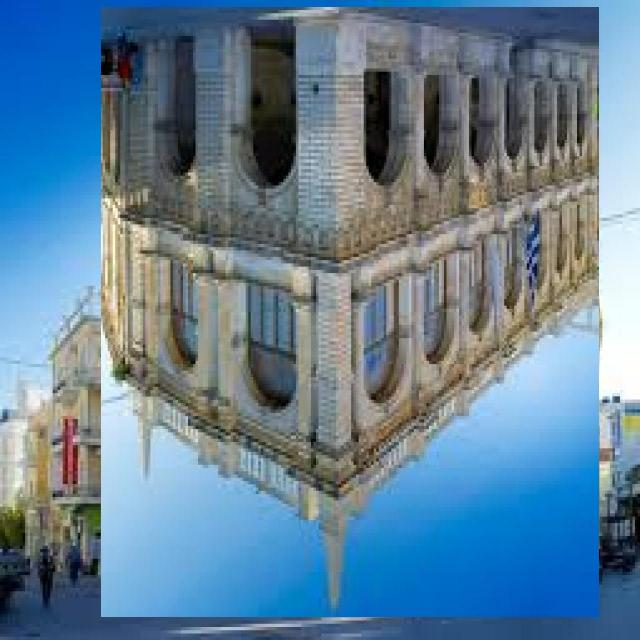Loggia: (102, 8, 600, 618)
